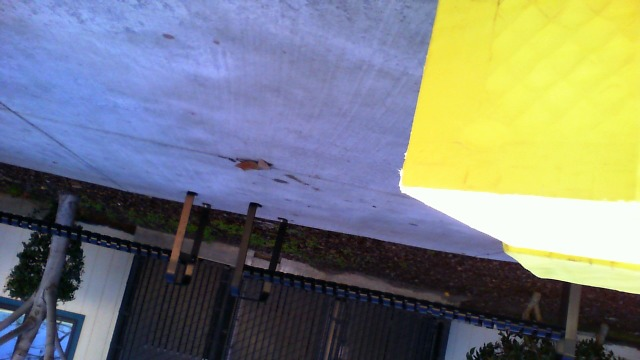cube: (399, 1, 638, 265), (474, 237, 640, 312)
